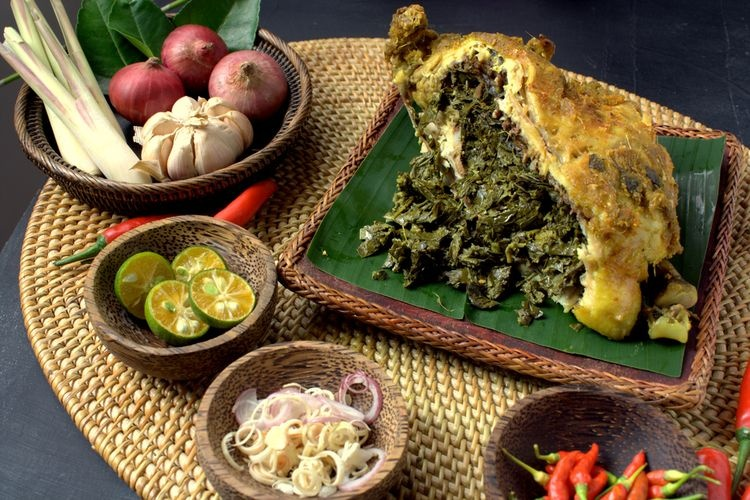ayam_betutu: (389, 5, 691, 344)
